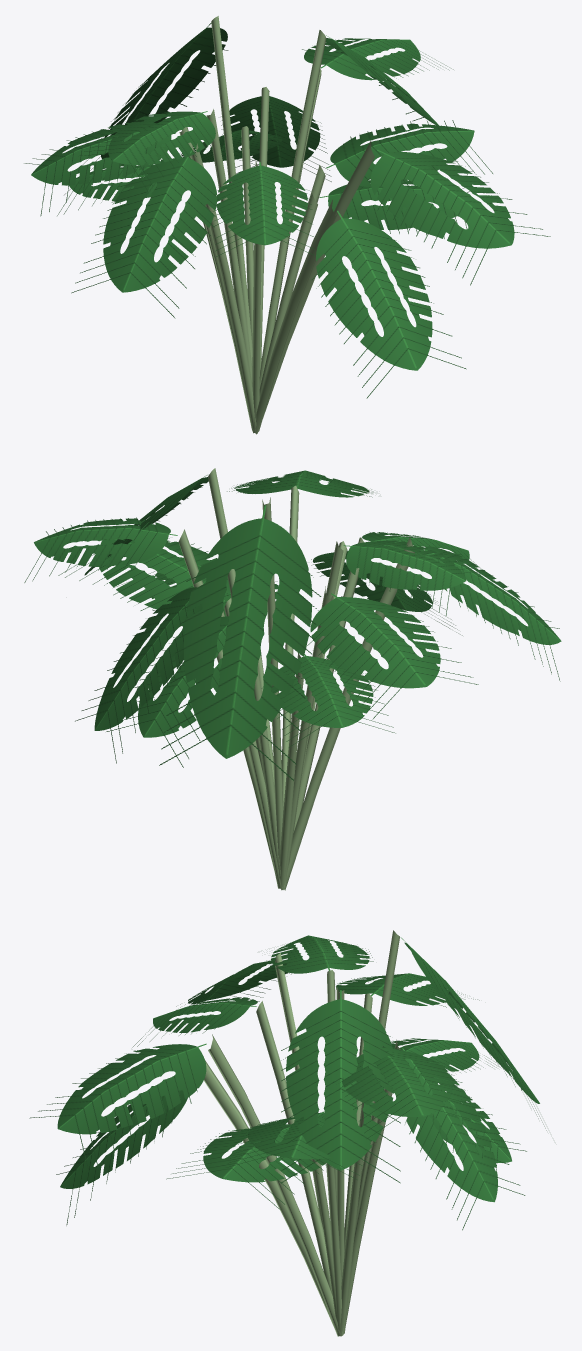
The model's file is monstera-deliciosa.glb.
The picture shows the model from 3 angles, top to bottom: view 1: azimuth 30°, elevation 25°; view 2: azimuth 150°, elevation 25°; view 3: azimuth 270°, elevation 25°; orthographic projection. The views are drawn at different scales.
Parts seen in each view (by area): view 1: folhas, peciolo; view 2: folhas, peciolo; view 3: folhas, peciolo.
Part boxes in pixels (x1,y1,x2,y2): folhas: [24, 23, 550, 398]; peciolo: [179, 16, 374, 434]; folhas: [24, 470, 561, 780]; peciolo: [178, 468, 414, 890]; folhas: [29, 935, 546, 1230]; peciolo: [203, 930, 402, 1336].
Size of the model in its own units: 2.4 by 2 by 2.5.
Materials: 2 (1 with a texture image).
